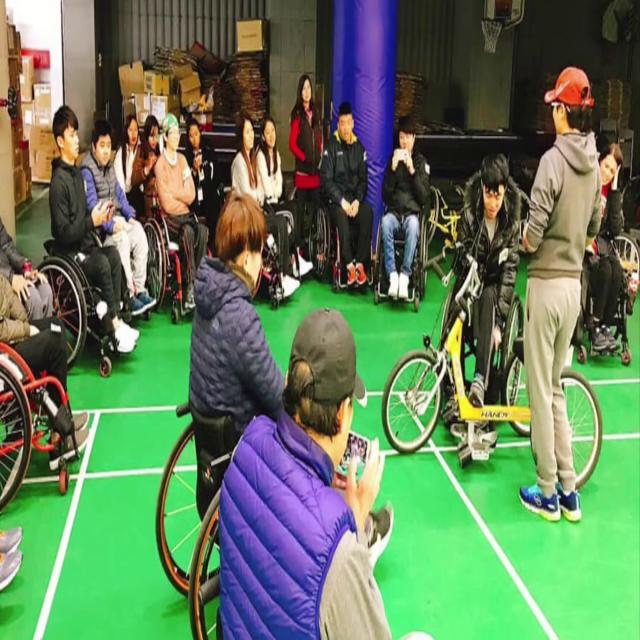wheelchairs: (139, 357, 360, 640), (425, 251, 557, 452), (0, 332, 96, 514), (30, 205, 131, 372), (555, 205, 640, 383), (132, 179, 230, 326), (363, 202, 433, 308), (317, 185, 382, 285)
